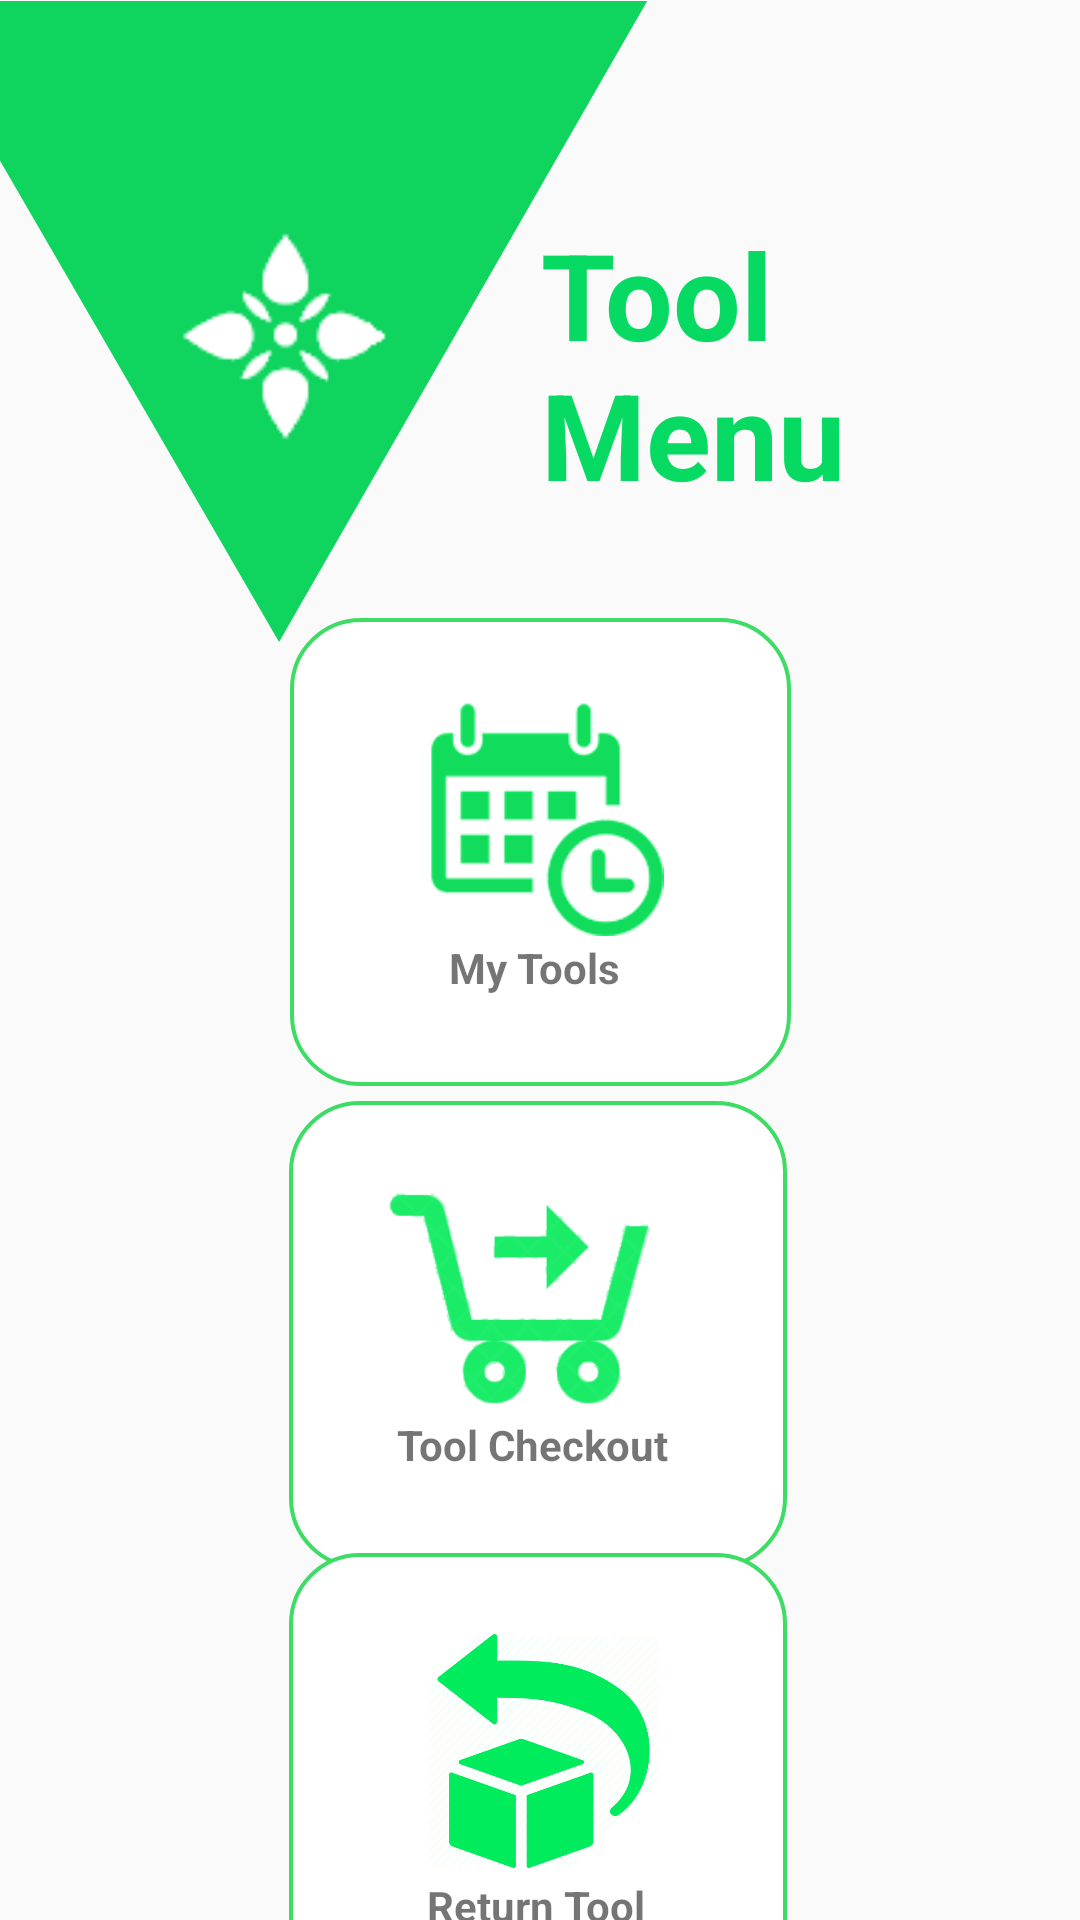

Icon click points for this 1080px×1920px phone screenshot, format point (x, y):
calendar: point (547, 819)
